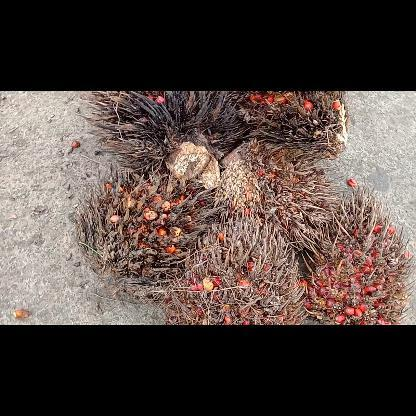Terlalu masak: (74, 159, 222, 301), (79, 90, 243, 188), (161, 216, 307, 324), (302, 184, 414, 324), (214, 142, 340, 248), (237, 91, 347, 164)
